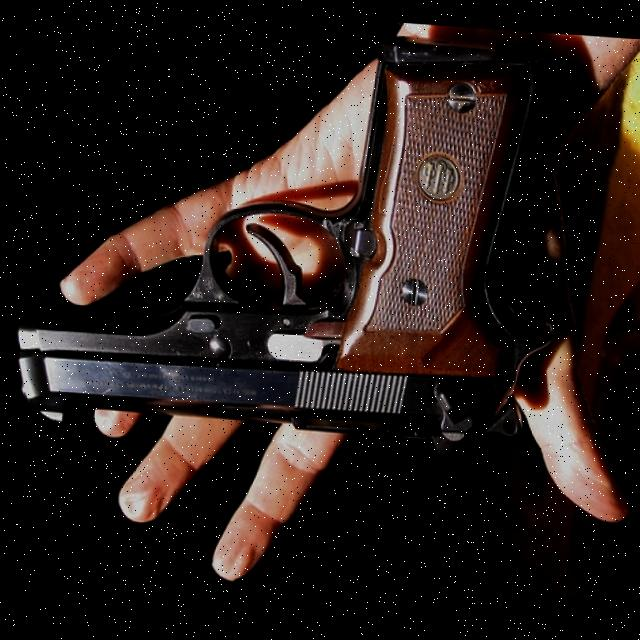pistol: (9, 7, 562, 449)
